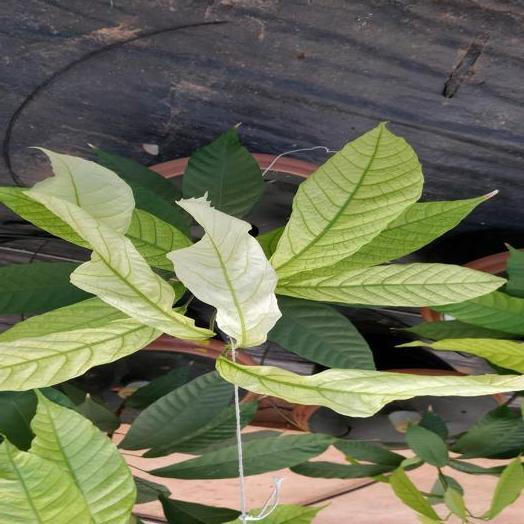Healthy Leaf: (123, 371, 232, 456), (268, 296, 374, 369), (183, 128, 263, 217), (0, 261, 89, 313), (436, 290, 523, 334), (242, 433, 333, 475), (452, 406, 523, 457), (168, 406, 235, 452), (149, 444, 236, 479), (158, 494, 239, 523), (333, 439, 402, 468), (291, 461, 397, 478), (407, 424, 447, 467), (241, 401, 257, 426), (144, 448, 161, 456)
Iron: (29, 191, 213, 340), (271, 123, 422, 284), (216, 356, 523, 416), (167, 194, 280, 347), (30, 393, 135, 523), (0, 319, 159, 390), (335, 197, 487, 268), (279, 263, 502, 306), (30, 148, 134, 232), (0, 440, 89, 523), (0, 298, 126, 341), (400, 338, 523, 373), (127, 209, 190, 270), (388, 468, 437, 521), (484, 458, 523, 518), (255, 505, 323, 523)
